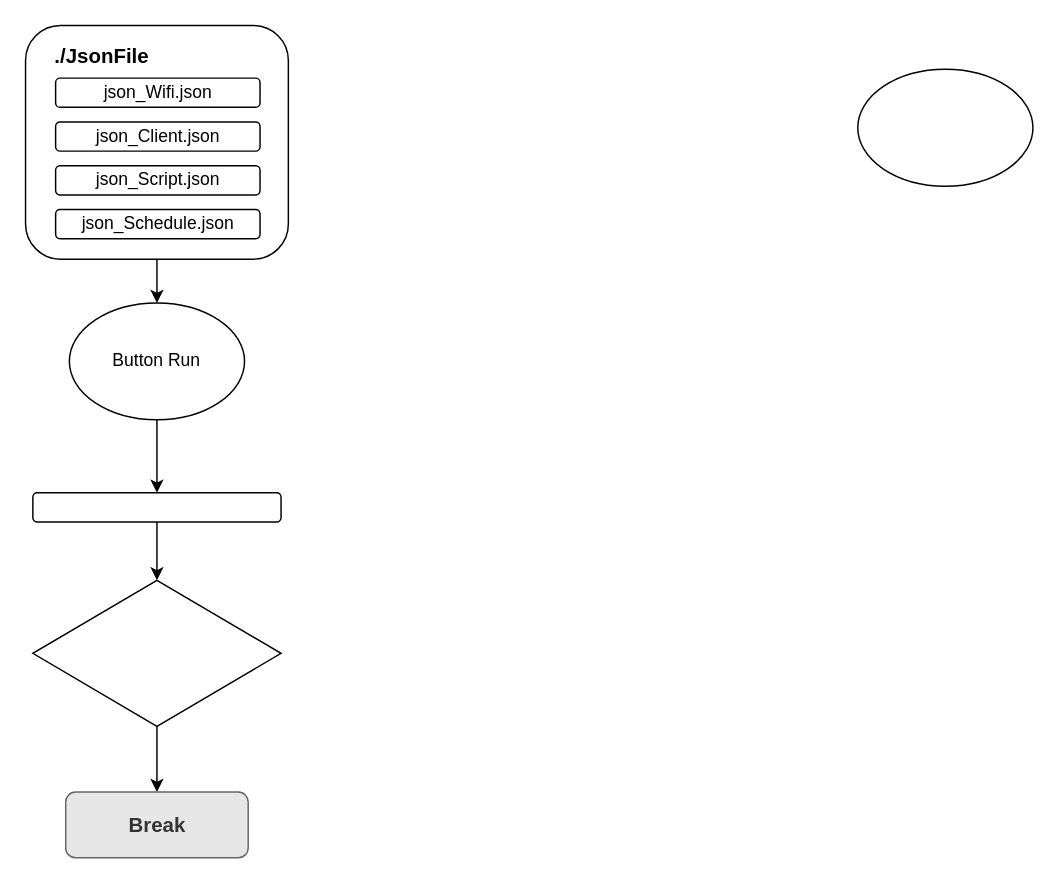
The diagram is 1059 pixels wide and 883 high, and some of its shapes have lost their labels. Here are the shapes that lost their labels. From the top down, the box of each, then its label:
(856, 68, 1033, 186): Button Stop
(31, 491, 281, 522): json_SelectedSituation.json
(31, 579, 281, 726): Check Clients Connection
